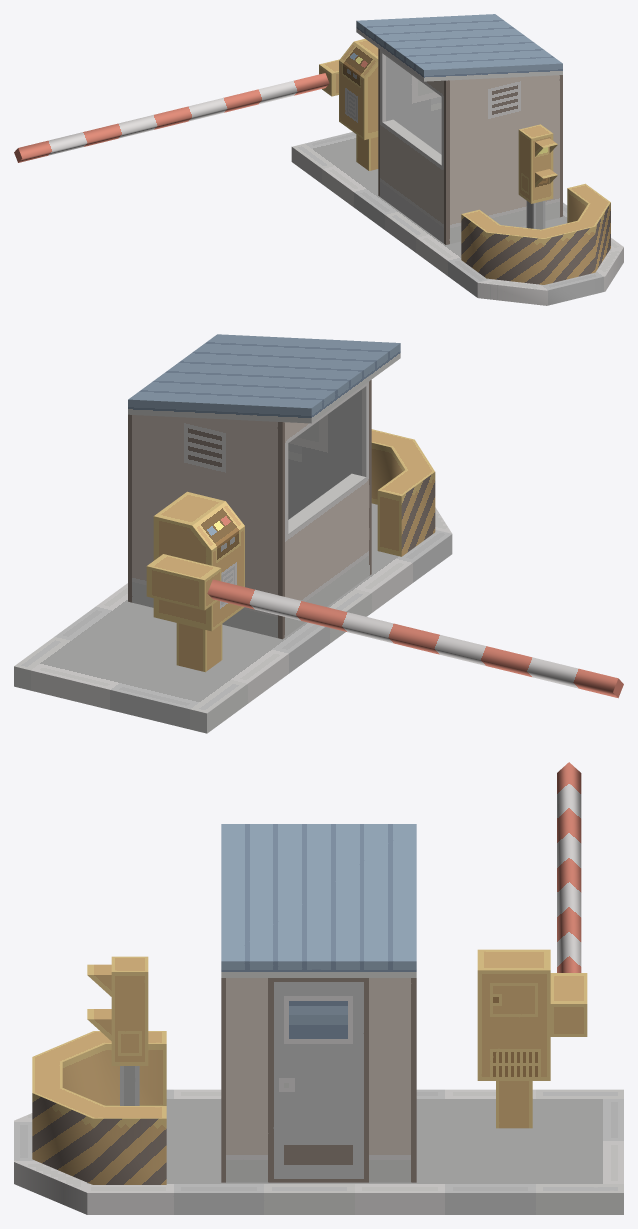
Rendered from 044c_Construction_Entrance.glb.
3 views of the same model, one above another, from view 1: azimuth 30°, elevation 25°; view 2: azimuth 150°, elevation 25°; view 3: azimuth 270°, elevation 25° (orthographic). The views are drawn at different scales.
Parts seen in each view (by area): view 1: part_0, part_1; view 2: part_0; view 3: part_0.
Boxes of the visible parts, x1=… form: part_0: x1=14, y1=14, x2=623, y2=305; part_1: x1=531, y1=133, x2=553, y2=203; part_0: x1=14, y1=334, x2=623, y2=733; part_0: x1=14, y1=762, x2=623, y2=1214.
Size of the model in its own units: 6 by 2.56 by 5.
Materials: 2 (2 with a texture image).
